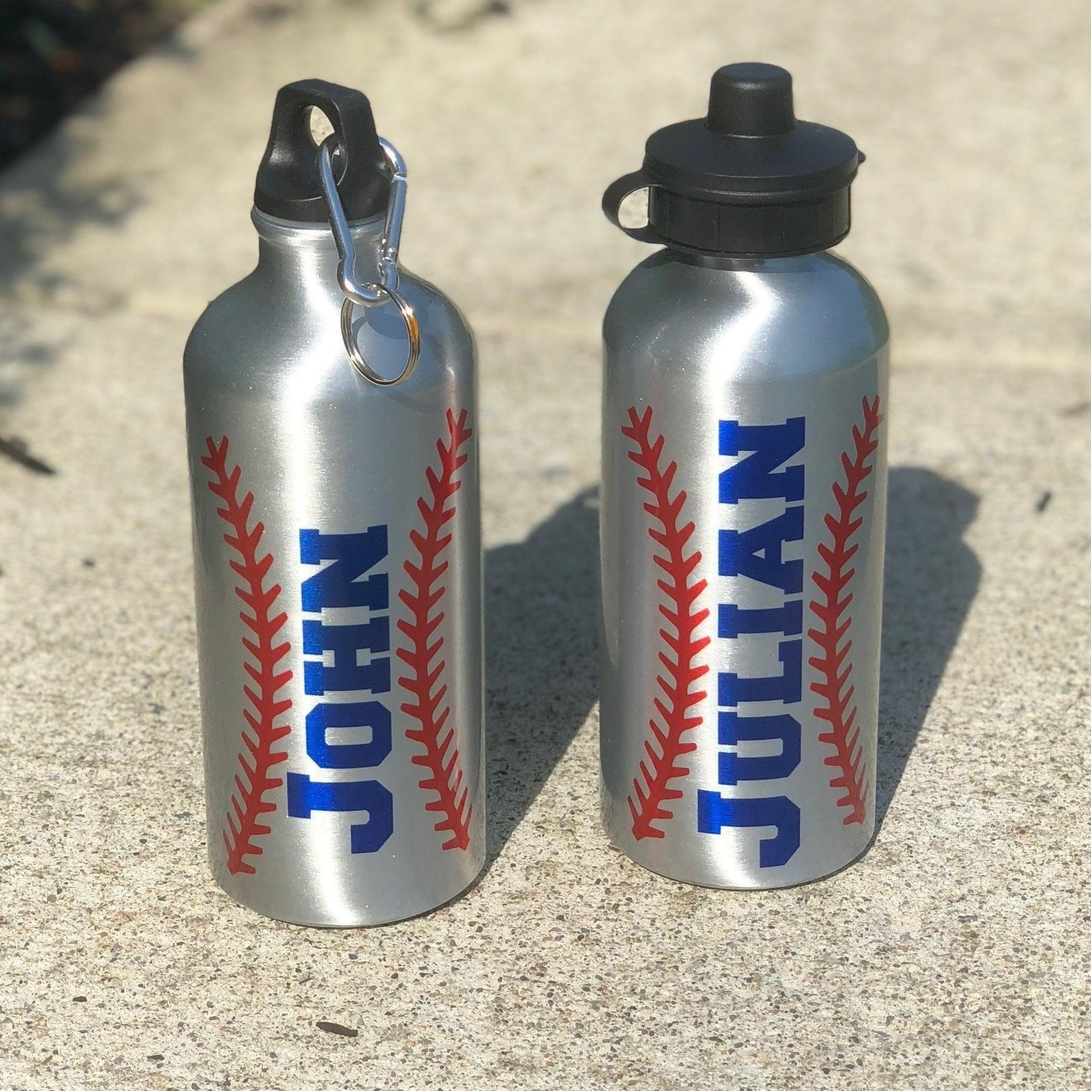gym bottle: (179, 73, 490, 929), (590, 56, 894, 902)
